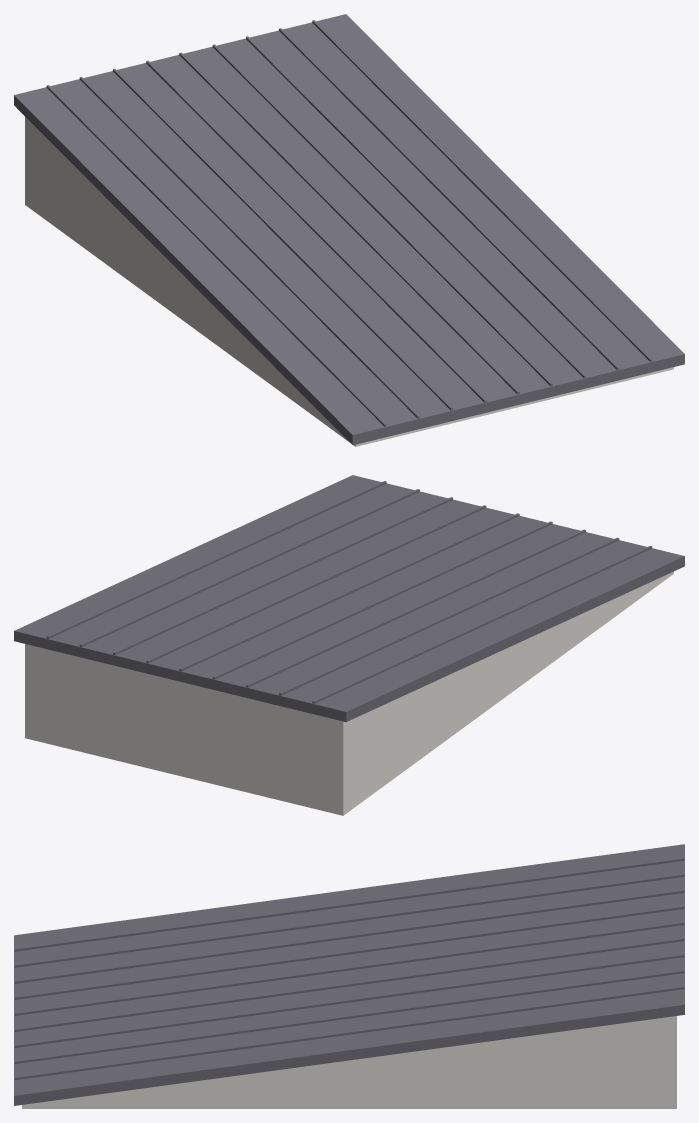
Rendered from SM_Roof_NarrowShedFront_White_455_01.gltf.
3 renders of one model, top to bottom at view 1: azimuth 30°, elevation 25°; view 2: azimuth 150°, elevation 25°; view 3: azimuth 270°, elevation 25°, orthographic.
Parts seen in each view (by area): view 1: SM_Roof_NarrowShedFront_White_455_01; view 2: SM_Roof_NarrowShedFront_White_455_01; view 3: SM_Roof_NarrowShedFront_White_455_01.
Part boxes in pixels (left/top/right/bottom): SM_Roof_NarrowShedFront_White_455_01: left=14, top=14, right=684, bottom=446; SM_Roof_NarrowShedFront_White_455_01: left=14, top=475, right=684, bottom=815; SM_Roof_NarrowShedFront_White_455_01: left=14, top=844, right=684, bottom=1108.
Size of the model in its own units: 4.75 by 1.51 by 8.39.
1 material, 1 textured.
